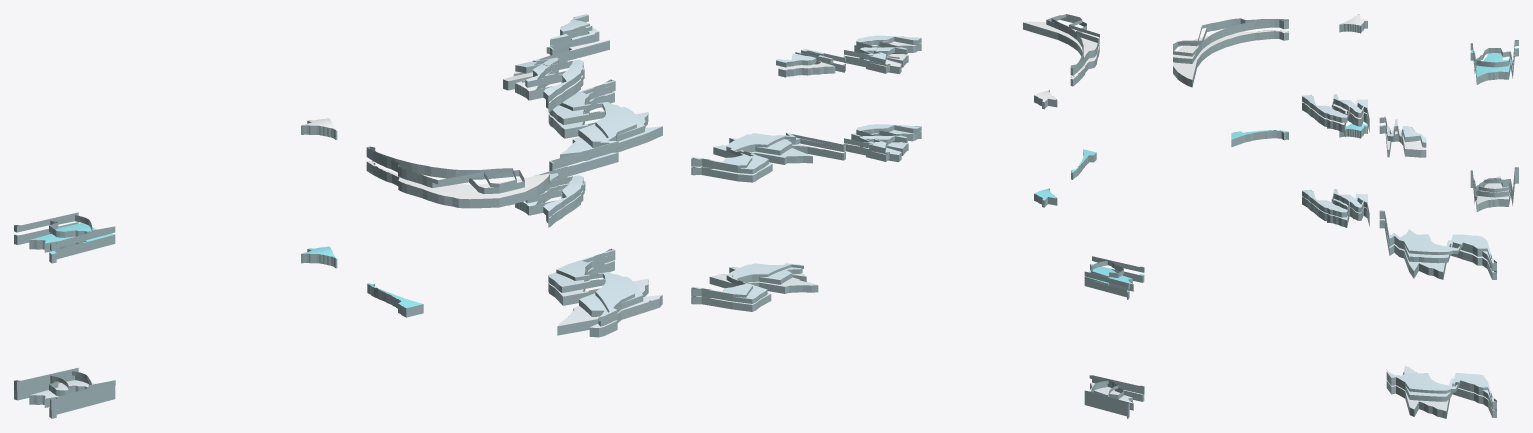
Rendered from yuna_semantic_layer_v9_hair_art_directed_v1_balanced.obj.
3 views of the same model, side by side, from view 1: azimuth 30°, elevation 25°; view 2: azimuth 150°, elevation 25°; view 3: azimuth 270°, elevation 25° (orthographic). The views are drawn at different scales.
Visible parts, largest first — view 1: bangs_primary_01, back_hair_mass_01, side_hair_right_primary_01, secondary_strands_01, flyaway_strands_01, flyaway_strands_02, secondary_strands_02, side_hair_left_primary_01, secondary_strands_03, back_hair_mass_02, secondary_strands_05, flyaway_strands_03 (+10 smaller); view 2: side_hair_right_primary_01, back_hair_mass_01, secondary_strands_01, flyaway_strands_01, bangs_primary_01, flyaway_strands_02, secondary_strands_02, side_hair_left_primary_01, secondary_strands_09, secondary_strands_10, secondary_strands_05, back_hair_mass_02 (+12 smaller); view 3: bangs_primary_01, back_hair_mass_01, flyaway_strands_01, side_hair_right_primary_01, flyaway_strands_02, secondary_strands_01, secondary_strands_02, secondary_strands_03, side_hair_left_primary_01, flyaway_strands_03, secondary_strands_10, back_hair_mass_02 (+10 smaller).
Part boxes in pixels (x1=…): bangs_primary_01: x1=366, y1=161, x2=549, y2=208; back_hair_mass_01: x1=548, y1=260, x2=662, y2=337; side_hair_right_primary_01: x1=548, y1=92, x2=662, y2=176; secondary_strands_01: x1=549, y1=84, x2=644, y2=170; flyaway_strands_01: x1=549, y1=79, x2=636, y2=167; flyaway_strands_02: x1=556, y1=248, x2=634, y2=321; secondary_strands_02: x1=548, y1=254, x2=643, y2=326; side_hair_left_primary_01: x1=14, y1=222, x2=115, y2=263; secondary_strands_03: x1=366, y1=151, x2=524, y2=193; back_hair_mass_02: x1=14, y1=380, x2=115, y2=418; secondary_strands_05: x1=14, y1=212, x2=115, y2=250; flyaway_strands_03: x1=366, y1=146, x2=516, y2=187; side_hair_right_primary_01: x1=691, y1=138, x2=845, y2=182; back_hair_mass_01: x1=691, y1=267, x2=818, y2=311; secondary_strands_01: x1=691, y1=134, x2=845, y2=174; flyaway_strands_01: x1=691, y1=132, x2=845, y2=168; bangs_primary_01: x1=1023, y1=21, x2=1099, y2=86; flyaway_strands_02: x1=691, y1=263, x2=803, y2=297; secondary_strands_02: x1=691, y1=264, x2=802, y2=303; side_hair_left_primary_01: x1=1084, y1=264, x2=1144, y2=299; secondary_strands_09: x1=844, y1=124, x2=921, y2=147; secondary_strands_10: x1=844, y1=35, x2=921, y2=59; secondary_strands_05: x1=1084, y1=256, x2=1144, y2=289; back_hair_mass_02: x1=1084, y1=383, x2=1144, y2=418; bangs_primary_01: x1=1173, y1=30, x2=1288, y2=87; back_hair_mass_01: x1=1386, y1=365, x2=1496, y2=418; flyaway_strands_01: x1=1379, y1=210, x2=1496, y2=265; side_hair_right_primary_01: x1=1379, y1=220, x2=1496, y2=279; flyaway_strands_02: x1=1386, y1=370, x2=1496, y2=404; secondary_strands_01: x1=1379, y1=214, x2=1496, y2=270; secondary_strands_02: x1=1386, y1=373, x2=1496, y2=409; secondary_strands_03: x1=1173, y1=21, x2=1288, y2=63; side_hair_left_primary_01: x1=1470, y1=48, x2=1518, y2=84; flyaway_strands_03: x1=1173, y1=18, x2=1288, y2=56; secondary_strands_10: x1=1302, y1=95, x2=1369, y2=123; back_hair_mass_02: x1=1470, y1=175, x2=1518, y2=211.
Bounding box in the file's own units: 3 × 1.49 × 1.85.
